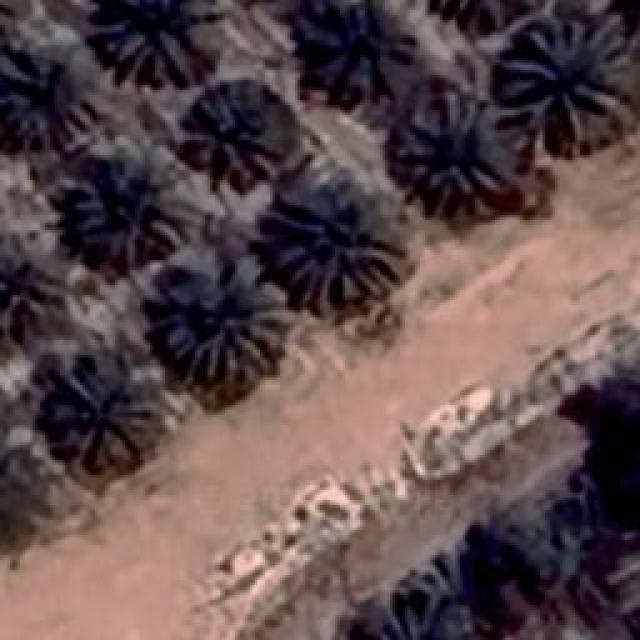PalmTree: (89, 41, 410, 619), (150, 245, 288, 385), (265, 185, 405, 310), (70, 132, 200, 266), (495, 20, 623, 138), (392, 90, 510, 205), (300, 0, 418, 105), (0, 32, 105, 142), (50, 365, 155, 465), (178, 84, 286, 178), (94, 0, 198, 80), (0, 432, 41, 548), (424, 0, 544, 27), (0, 0, 28, 44)
